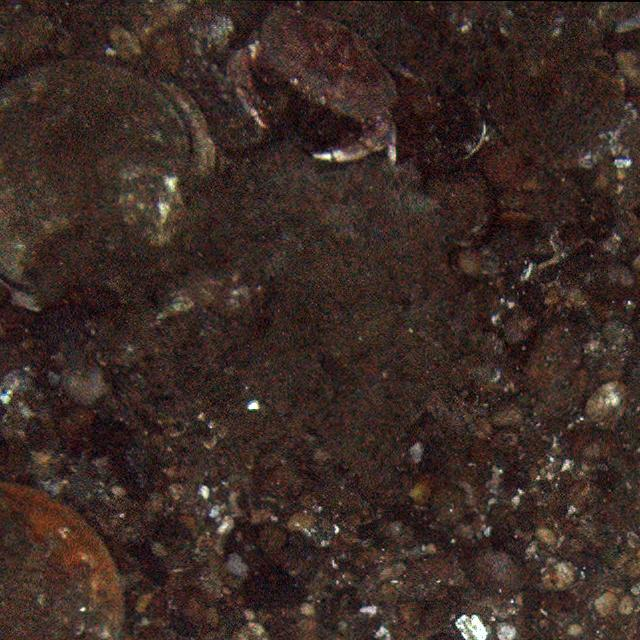crab: (227, 7, 405, 166)
